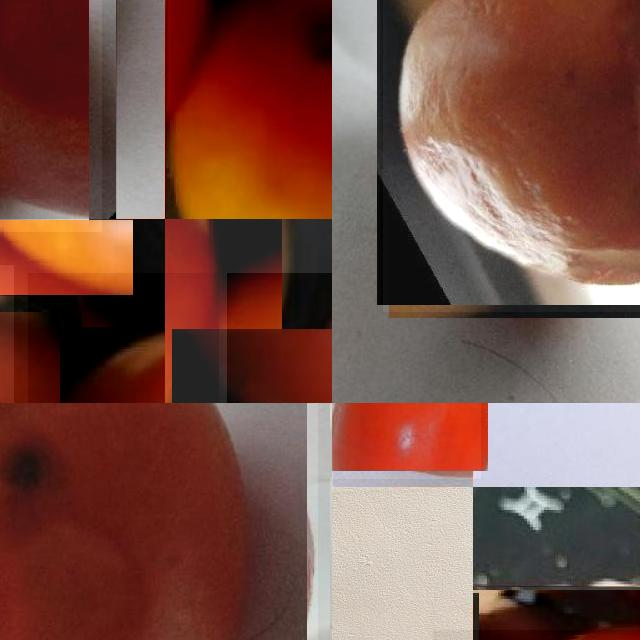Fresh Tomato: (165, 0, 332, 219), (165, 219, 332, 403), (28, 272, 218, 403), (227, 273, 332, 403), (332, 403, 480, 479), (0, 219, 133, 295)
Rotten Tomato: (382, 0, 640, 311), (0, 403, 318, 640), (0, 0, 102, 232)
